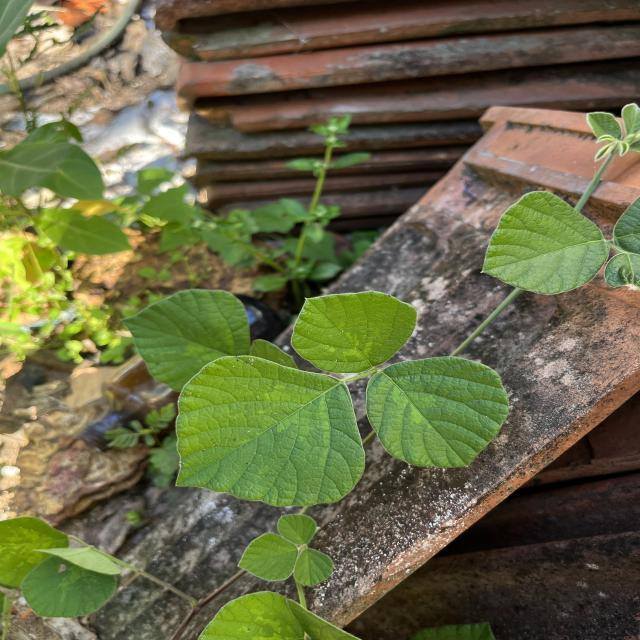Pseudarthria viscida: (168, 284, 518, 510), (236, 513, 336, 587)
